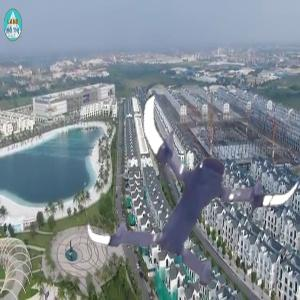drone: (99, 90, 299, 290)
